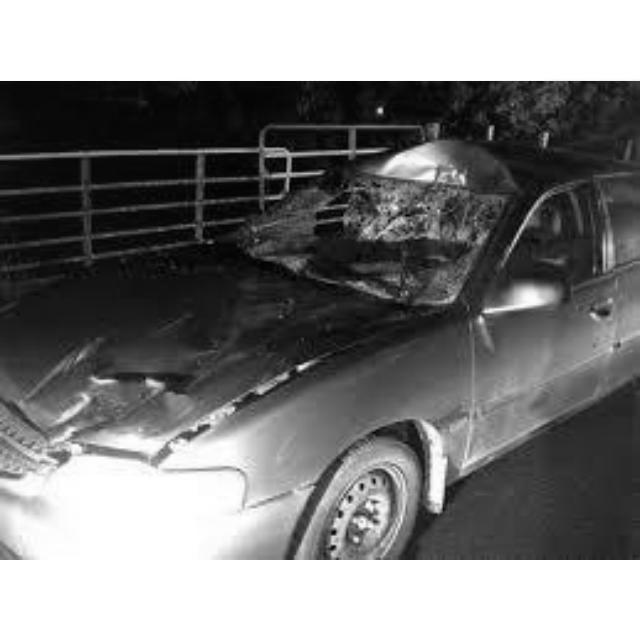Front-windscreen-damage: (250, 172, 487, 285)
bonnet-dent: (5, 273, 313, 426)
